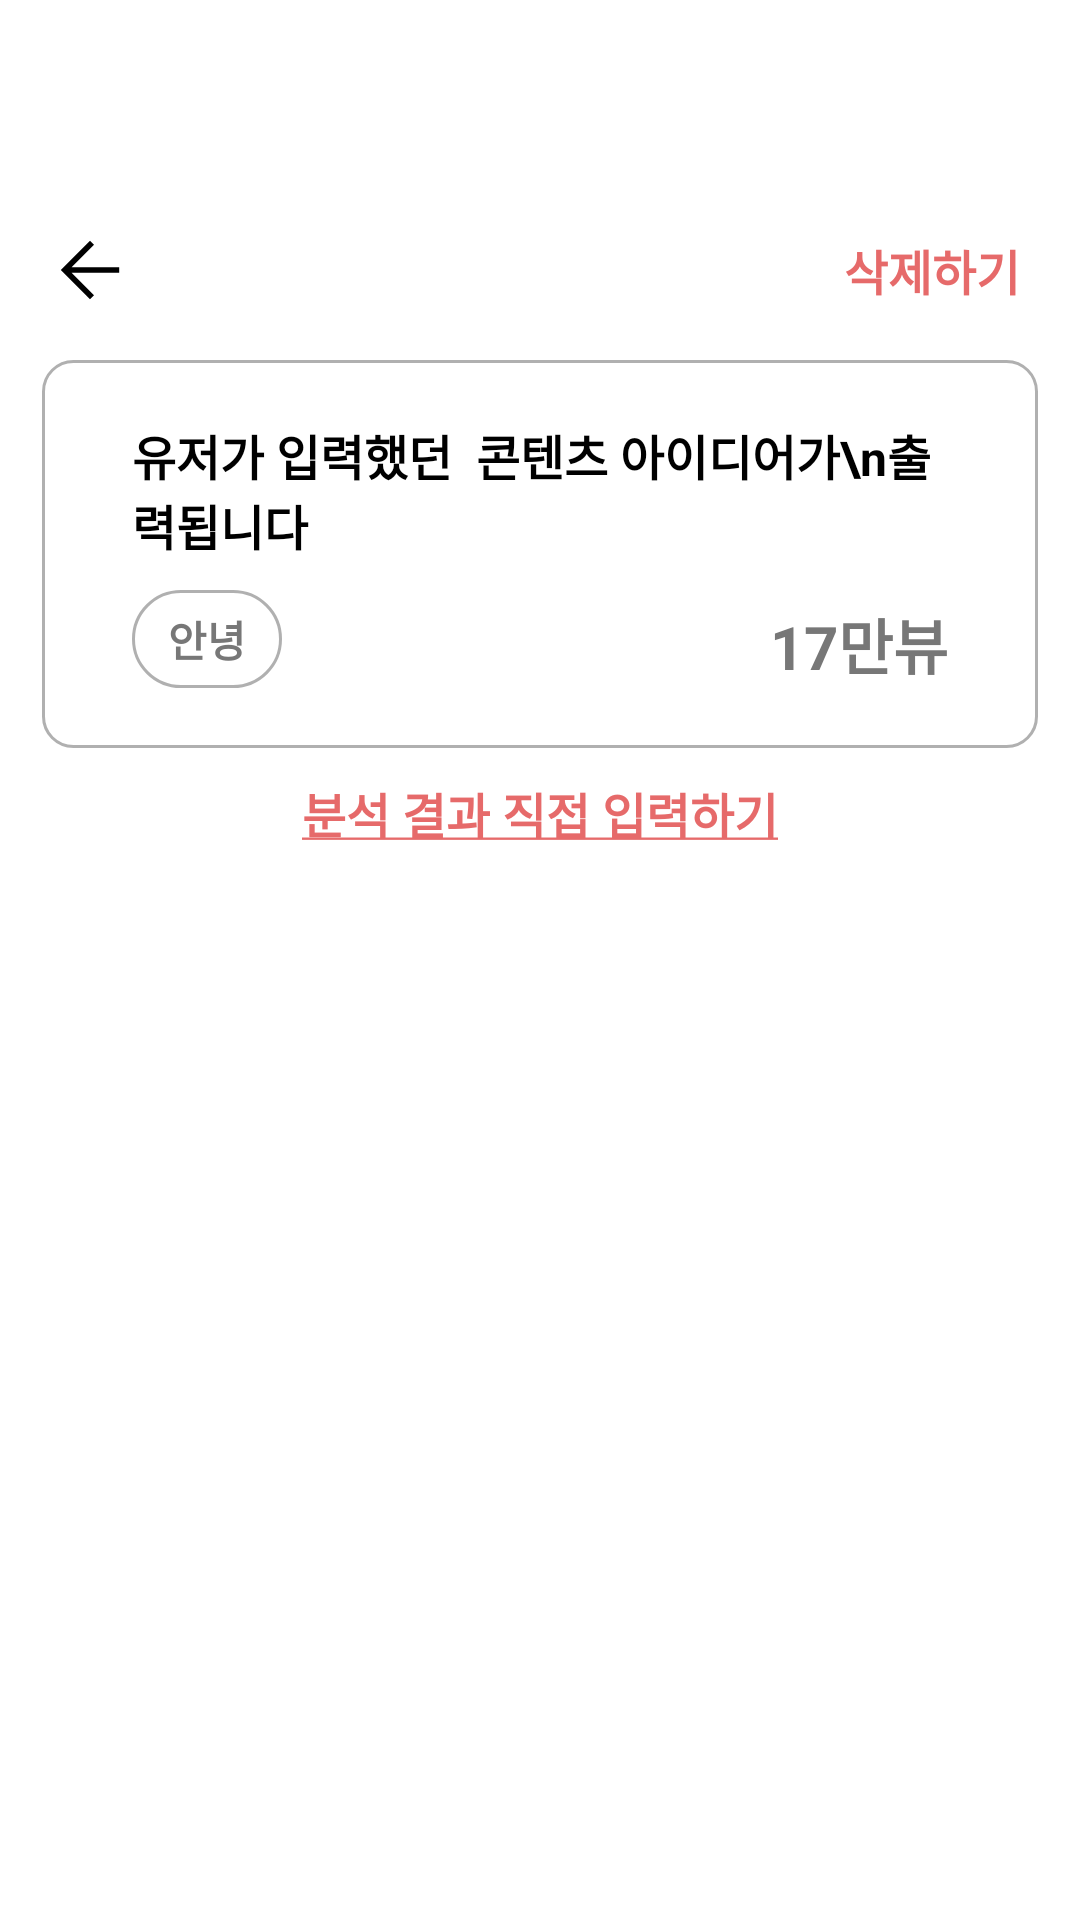

Named icons in this screenshot (1080w x 1920h) and their bounding boxes, (x1, y1, x2, y2):
arrow back: (61, 241, 120, 299)
